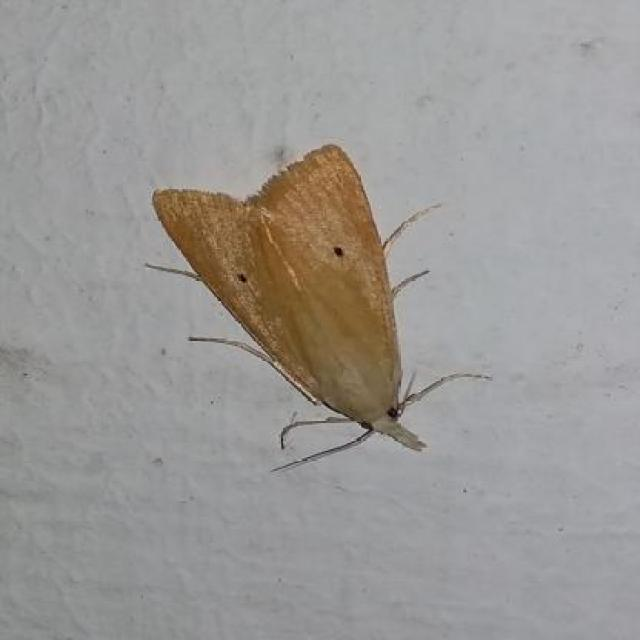stem-borer: (143, 140, 502, 475)
